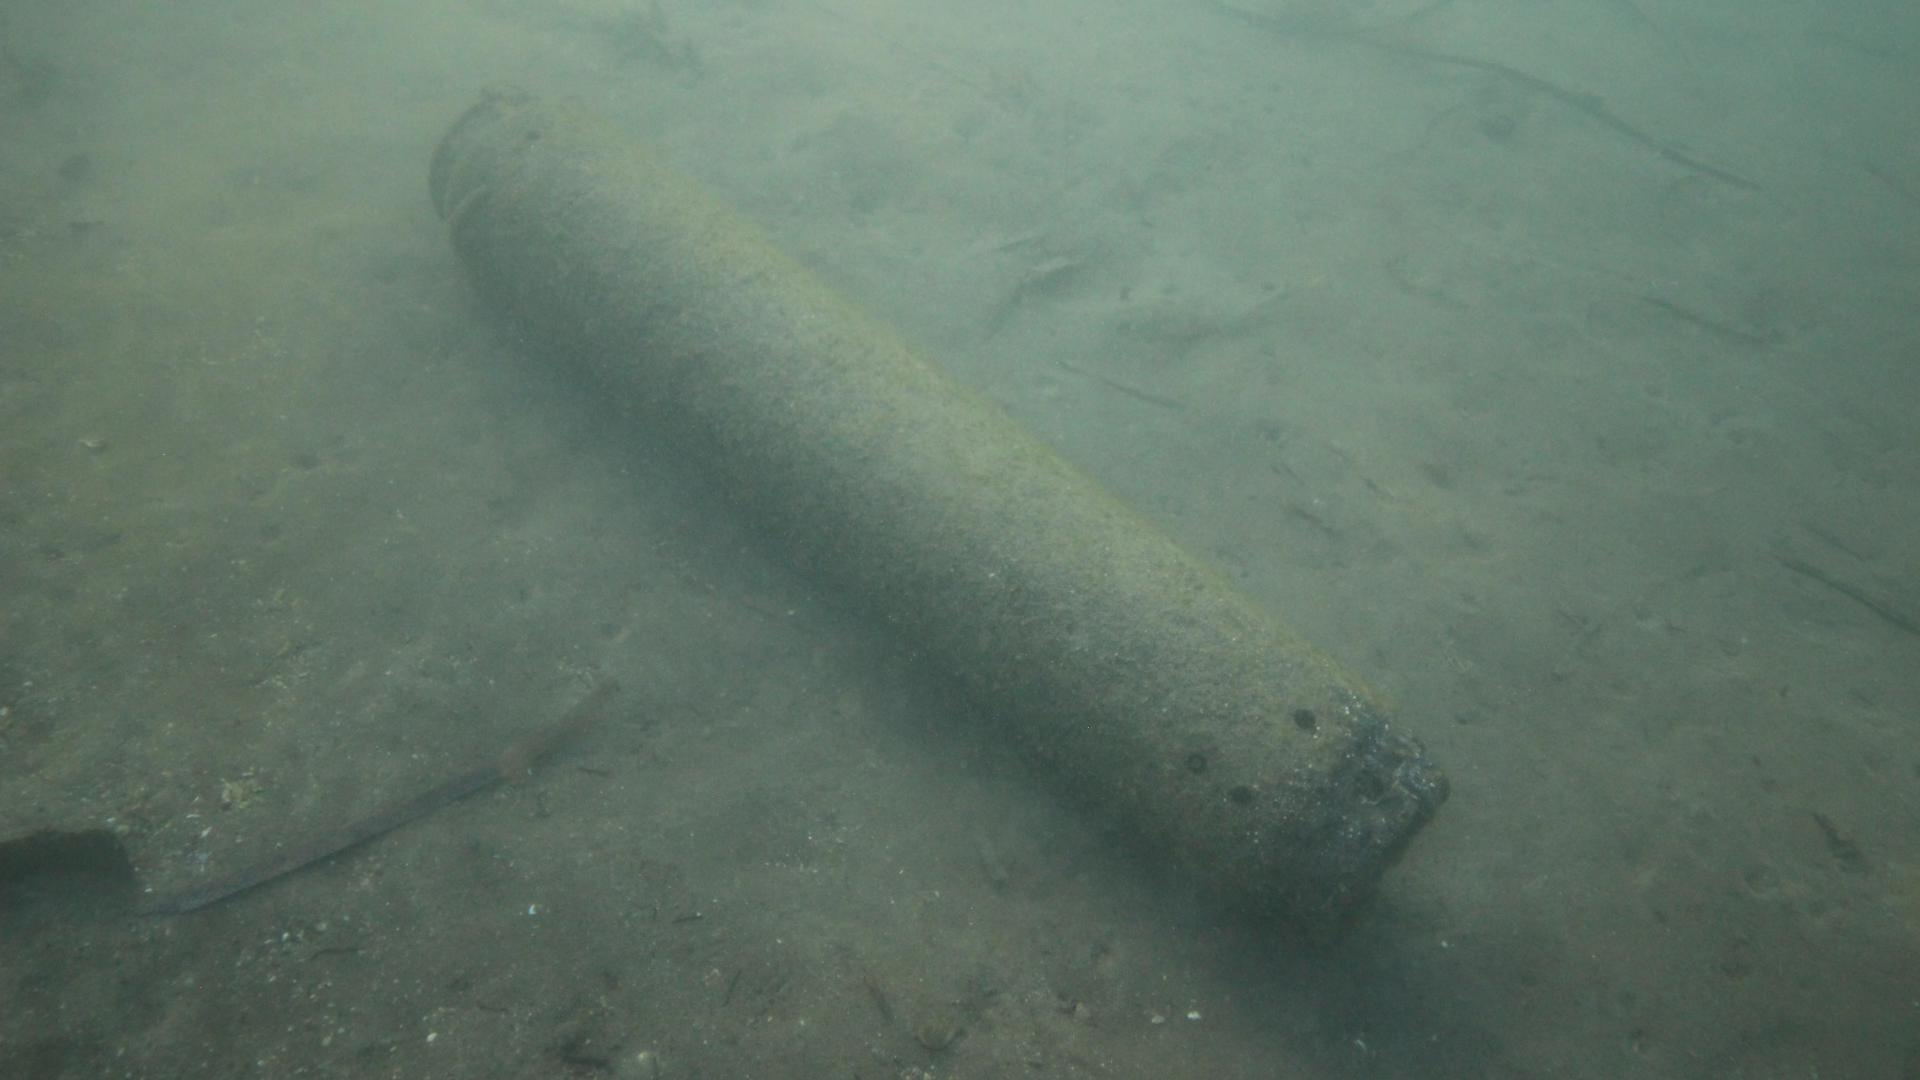eel fish trap: (425, 80, 1447, 940)
